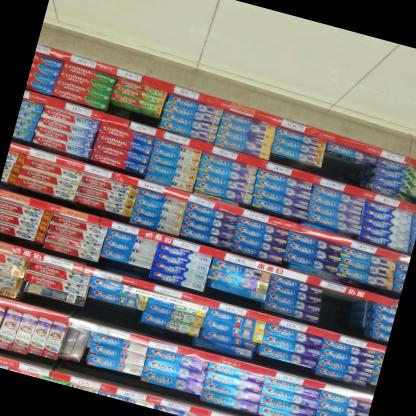empty_space: (322, 288, 363, 331)
